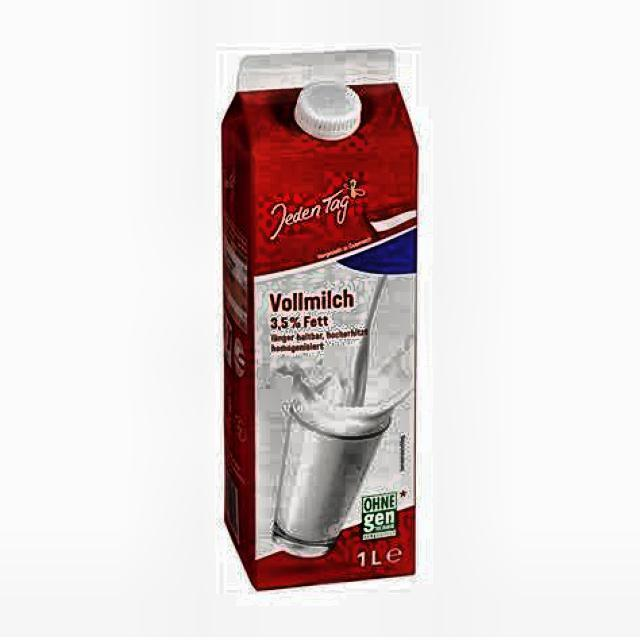cardboard: (218, 48, 418, 590)
